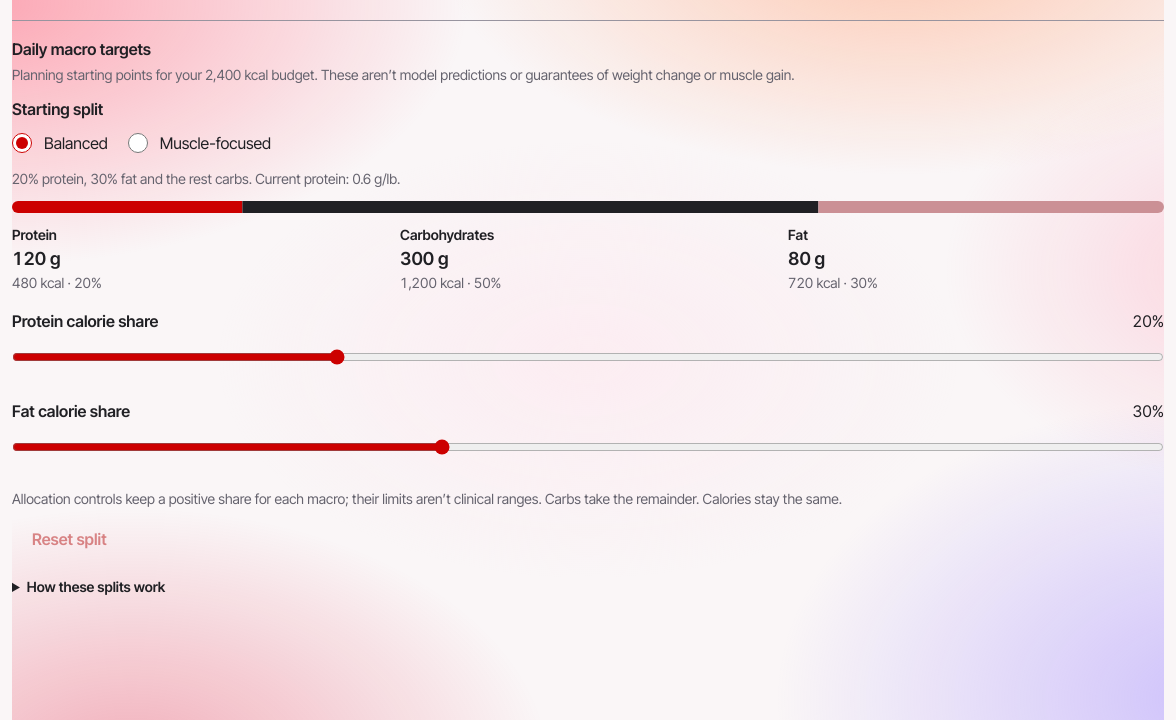
Scenario: macro draft controls › edits fat while leaving protein allocation and total calories intact
Set the slider labelled "Fat calorie share" to "35" at (515, 447), box [12,423,1164,471]
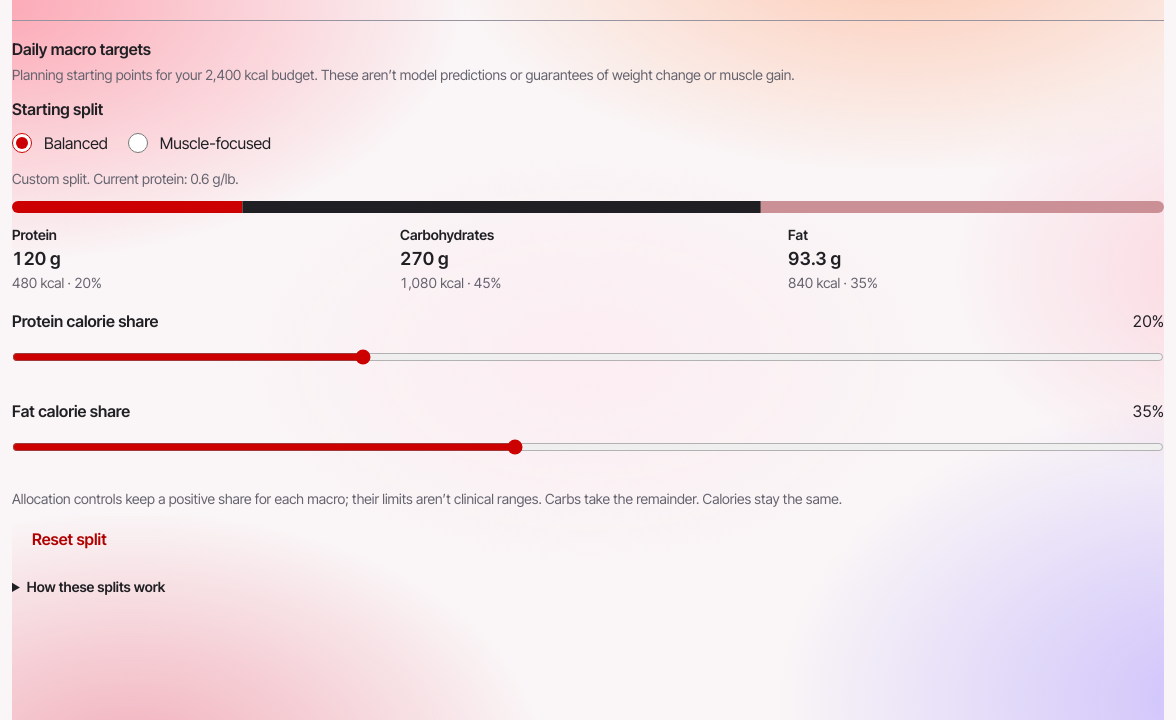
Expected: the text "120 g" is shown, [12,248,60,269]
Now the text "270 g" is shown, box [400,248,448,269]
Now the text "93.3 g" is shown, box [788,248,841,269]
